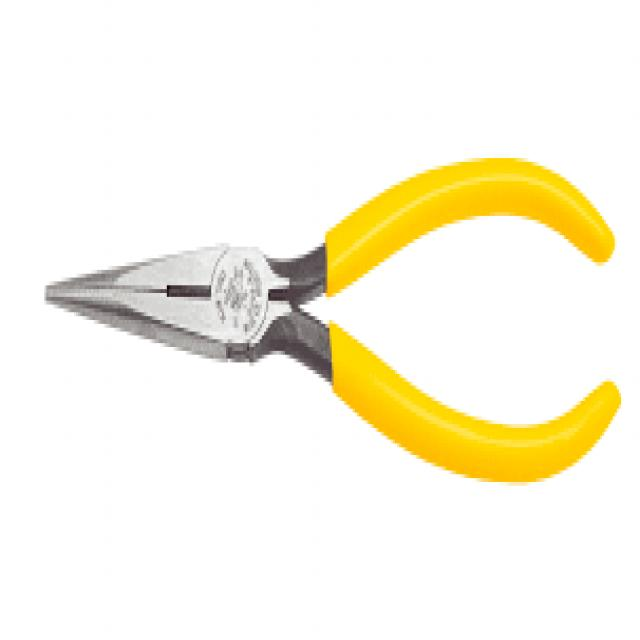Pliers: (33, 139, 628, 494)
